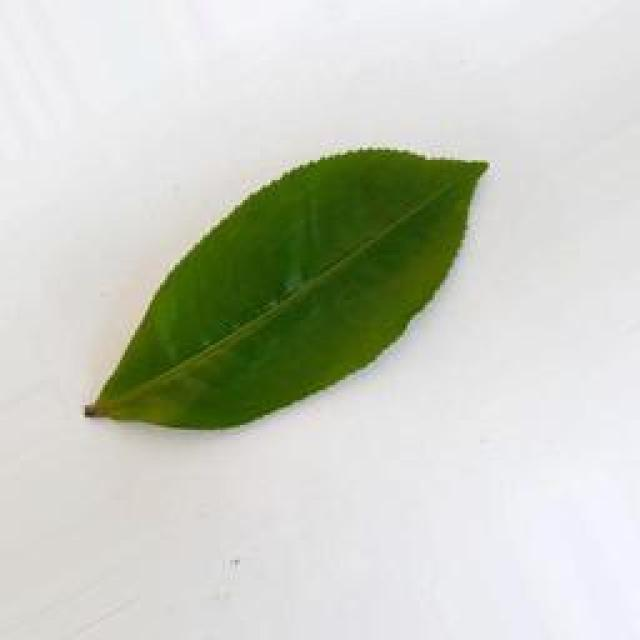Healthy: (70, 128, 498, 444)
